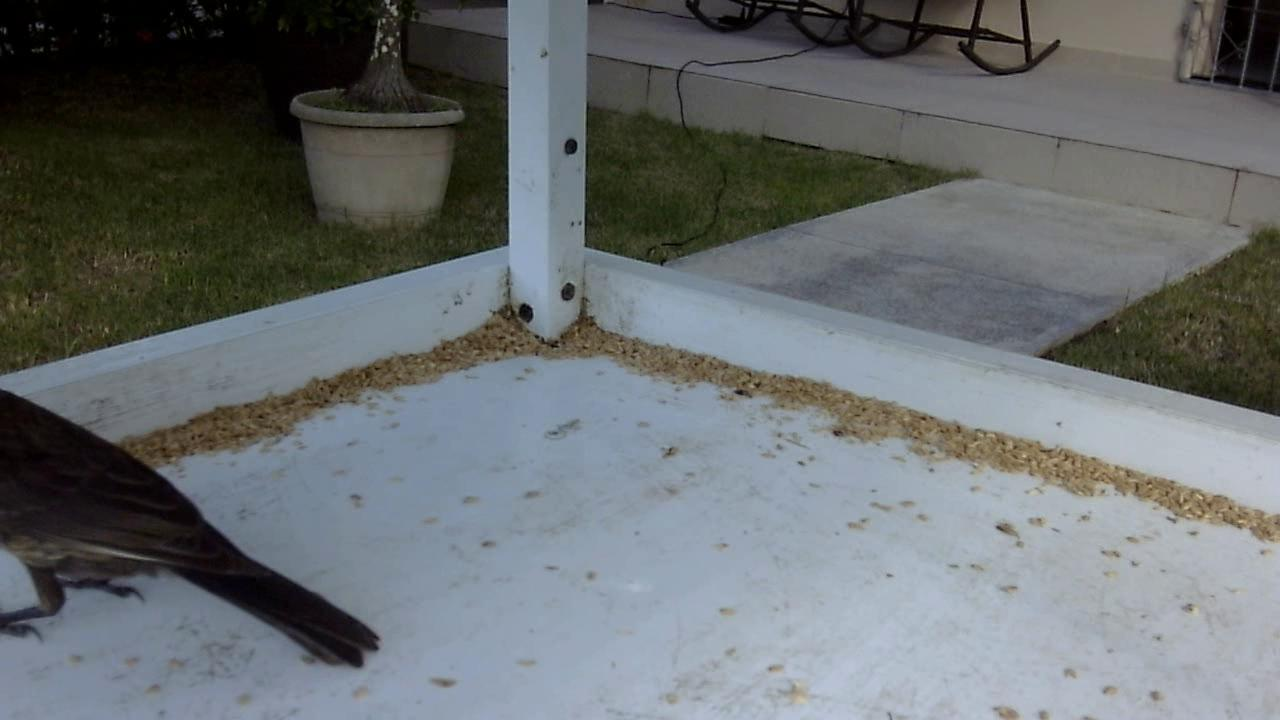chupim: (4, 362, 395, 686)
